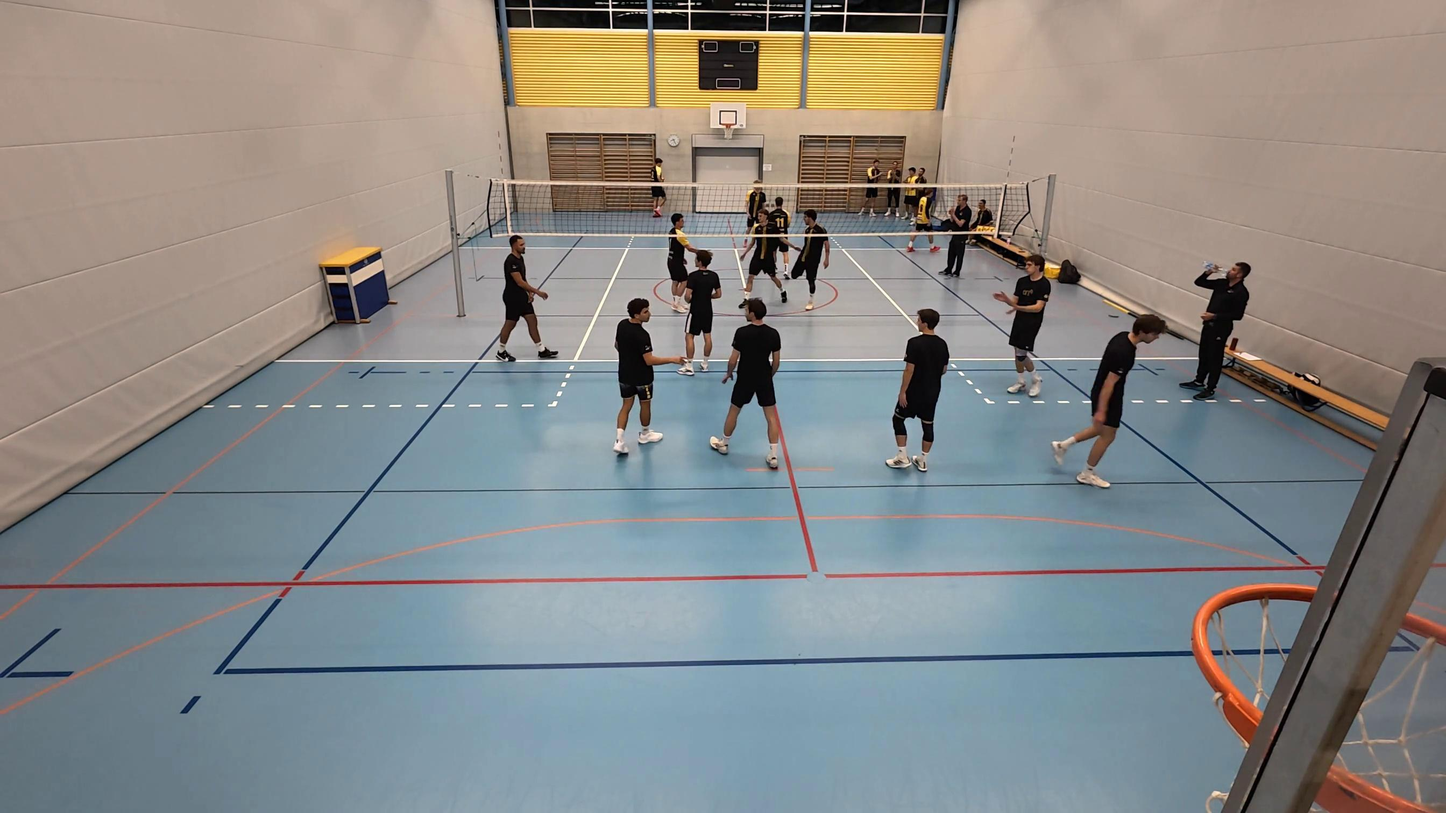Player: (1052, 315, 1163, 488), (710, 299, 783, 469), (613, 297, 683, 455), (887, 308, 949, 472), (495, 235, 559, 361), (997, 254, 1052, 397), (679, 249, 724, 375), (743, 195, 792, 302), (786, 209, 830, 310), (662, 215, 693, 310), (736, 179, 767, 264), (648, 158, 669, 222)
